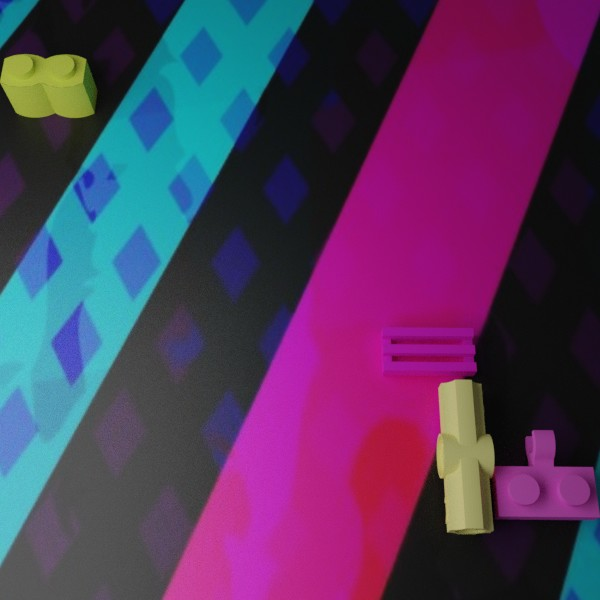lego: (490, 430, 600, 520), (436, 379, 494, 534), (0, 54, 97, 117), (380, 327, 476, 376)
